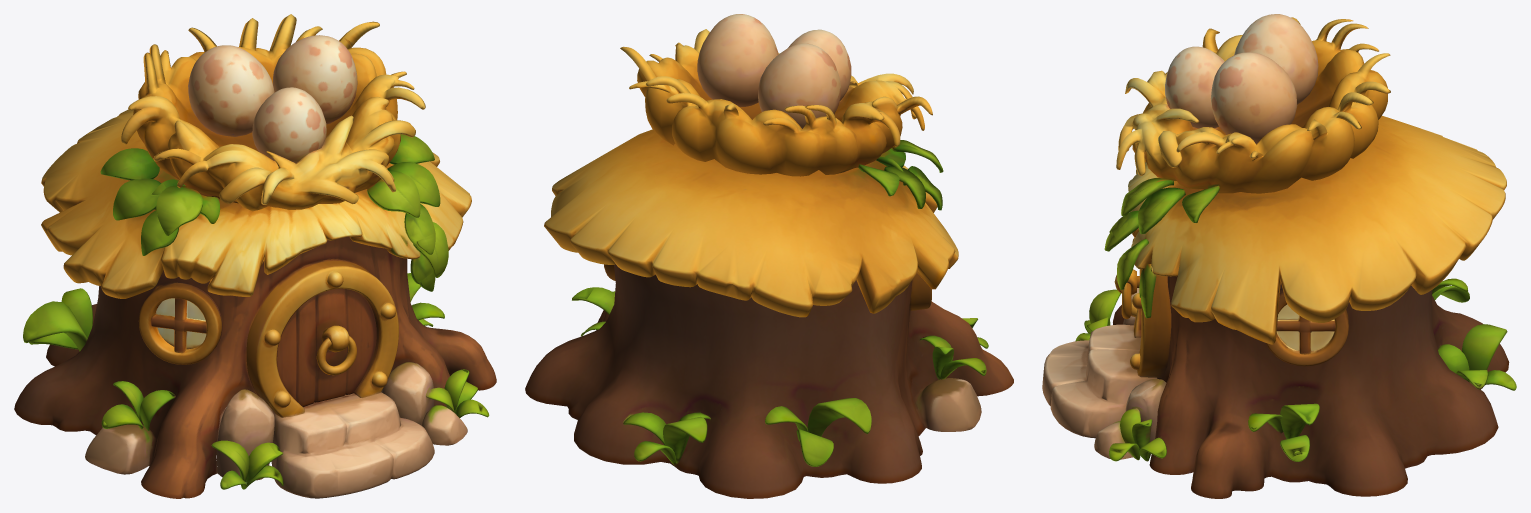
File: keep_pets.glb
3 views of the same model, side by side, from view 1: azimuth 30°, elevation 25°; view 2: azimuth 150°, elevation 25°; view 3: azimuth 270°, elevation 25° (orthographic). The views are drawn at different scales.
Parts seen in each view (by area): view 1: tripo_node_703be09d-44d4-45e8-8dd0-f488401dd4e2; view 2: tripo_node_703be09d-44d4-45e8-8dd0-f488401dd4e2; view 3: tripo_node_703be09d-44d4-45e8-8dd0-f488401dd4e2.
Part boxes in pixels (x1,y1,x2,y2): tripo_node_703be09d-44d4-45e8-8dd0-f488401dd4e2: (14,14,496,498); tripo_node_703be09d-44d4-45e8-8dd0-f488401dd4e2: (525,14,1013,498); tripo_node_703be09d-44d4-45e8-8dd0-f488401dd4e2: (1042,14,1516,498).
Bounding box in the file's own units: 0.9731 × 0.853 × 0.9995.
Materials: 1 (1 with a texture image).
